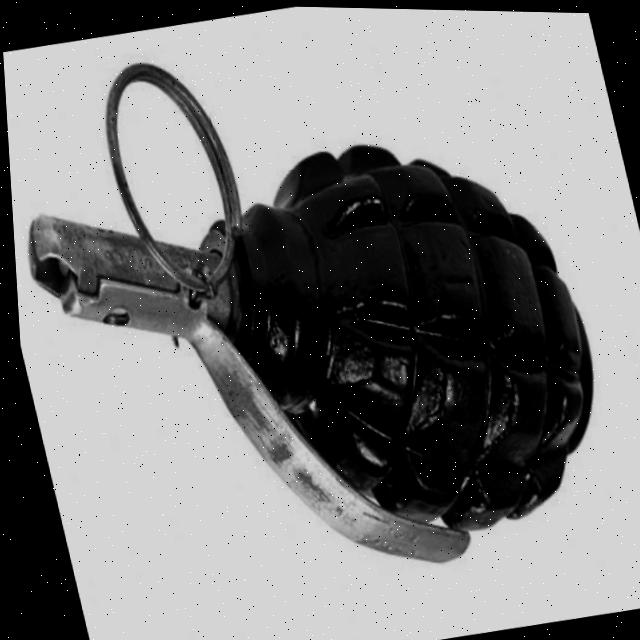grenade: (0, 0, 640, 637)
